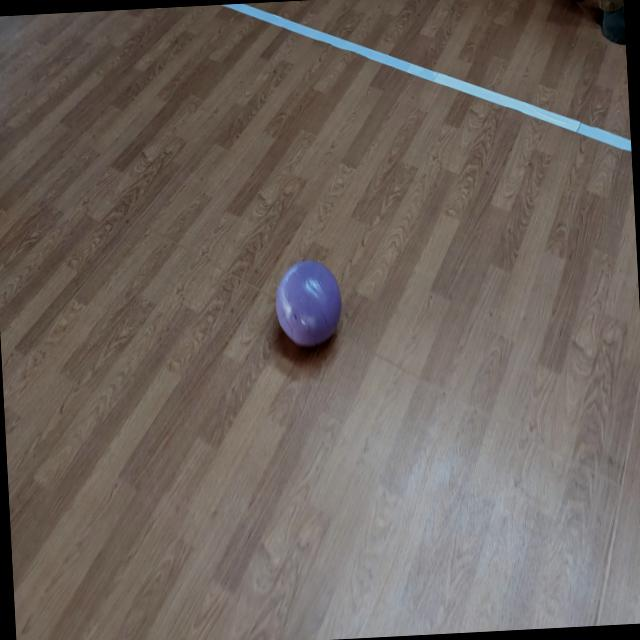purple_ball: (270, 258, 344, 346)
